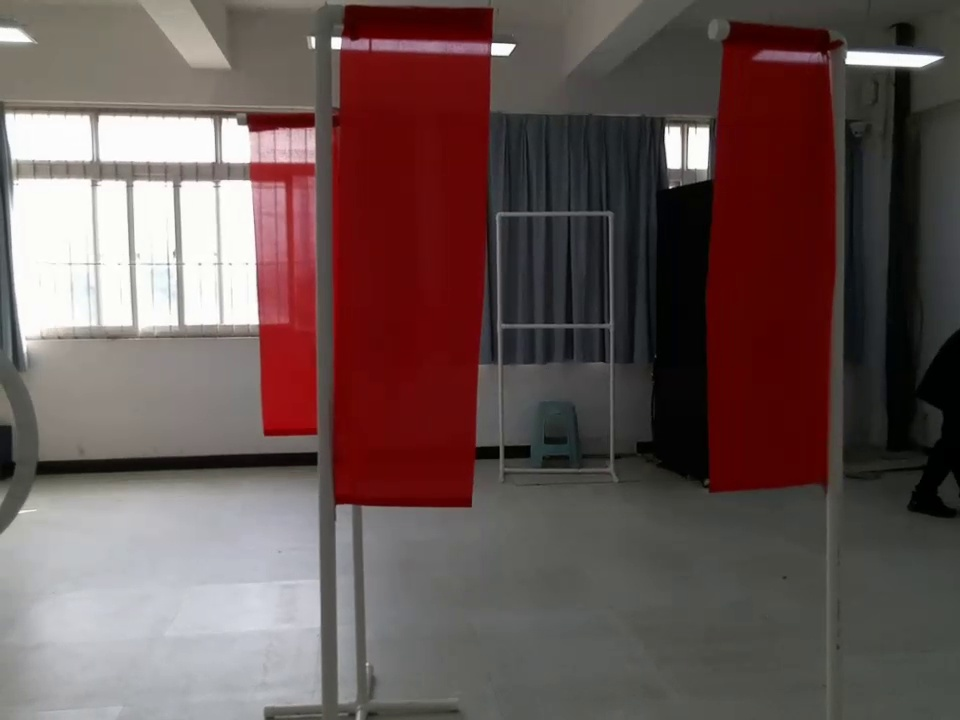qi: (308, 2, 505, 515), (704, 12, 849, 494), (234, 111, 332, 441)
